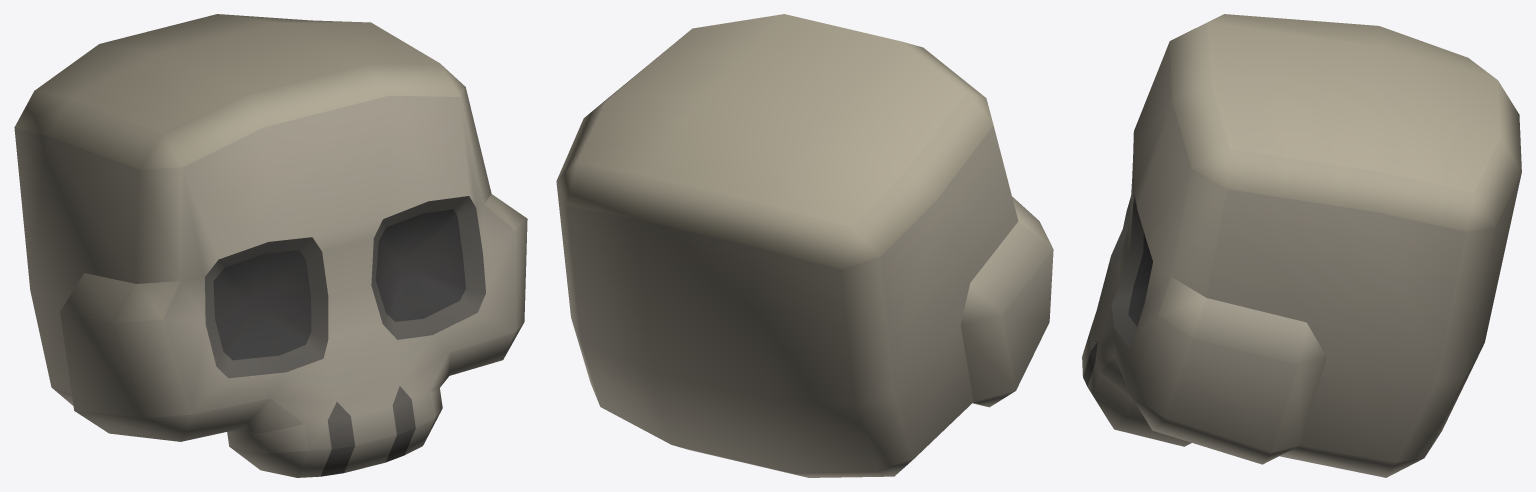
Rendered from deco_skull_1.fbx.
3 renders of one model, left to right at view 1: azimuth 30°, elevation 25°; view 2: azimuth 150°, elevation 25°; view 3: azimuth 270°, elevation 25°, orthographic. The views are drawn at different scales.
Parts seen in each view (by area): view 1: deco_skull_1; view 2: deco_skull_1; view 3: deco_skull_1.
Boxes of the visible parts, x1,y1,x2,y2 form: deco_skull_1: (14,14,527,477); deco_skull_1: (556,14,1053,477); deco_skull_1: (1082,14,1521,477).
Bounding box in the file's own units: 49.11 × 42.15 × 45.34.
